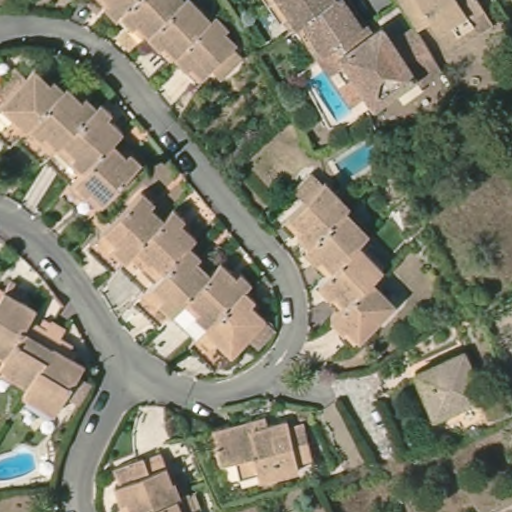pool: (306, 71, 352, 124), (333, 138, 384, 181), (1, 446, 39, 484)
